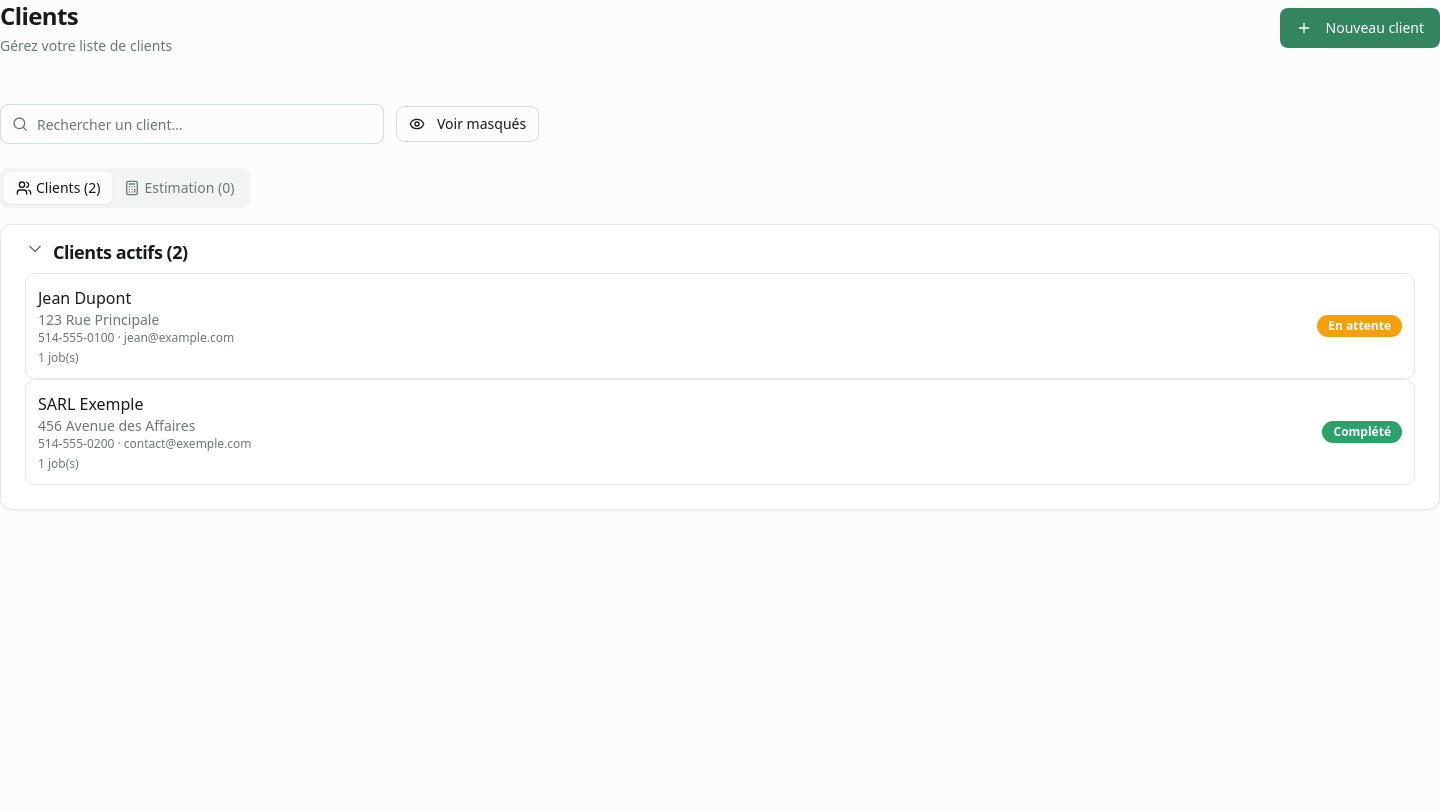
Test case: Clients — Billing Info UI › Add client dialog › renders billing email field in add dialog
Click the button "Nouveau client" at (1360, 28), box [1280,8,1439,48]
(page scrolled)
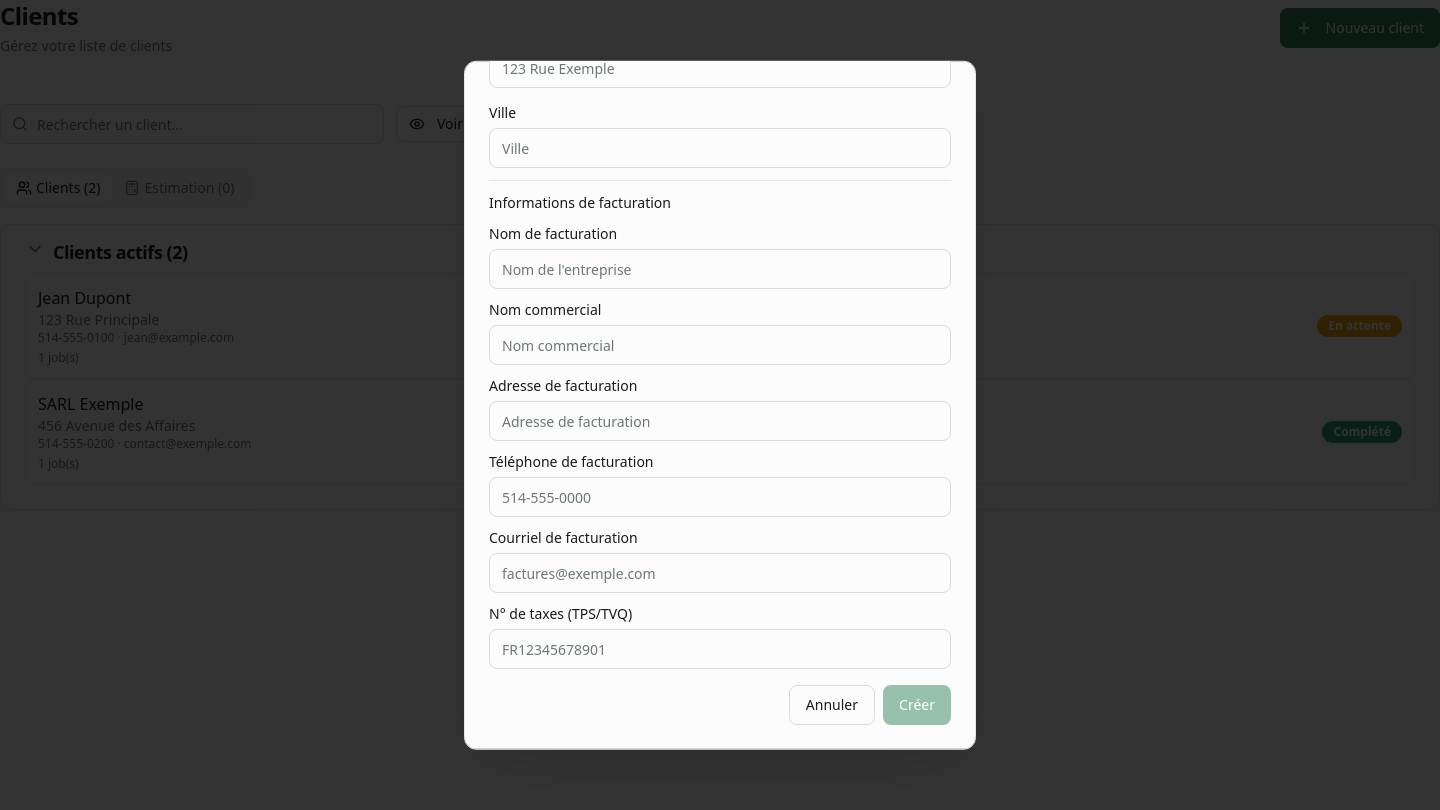
Check: the field with placeholder "factures@exemple.com" is shown, box [489,553,951,593]
